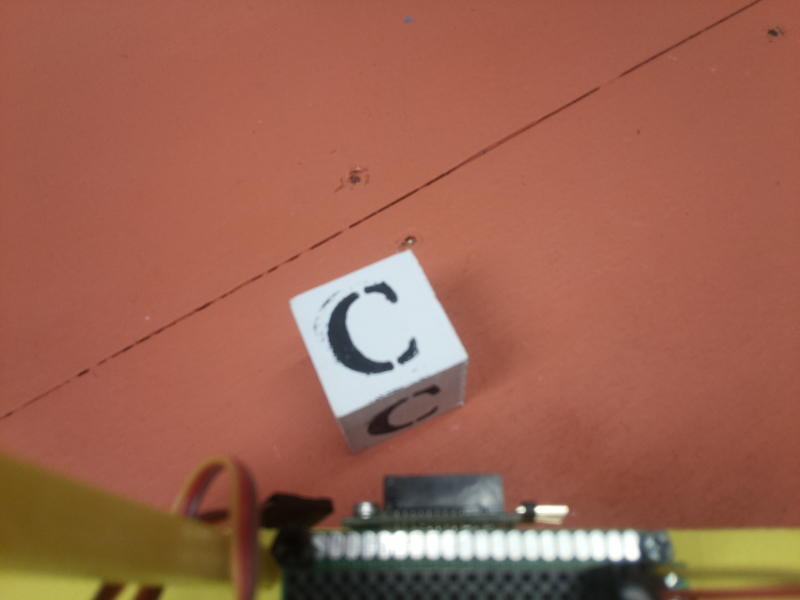blockC: (287, 249, 471, 452)
